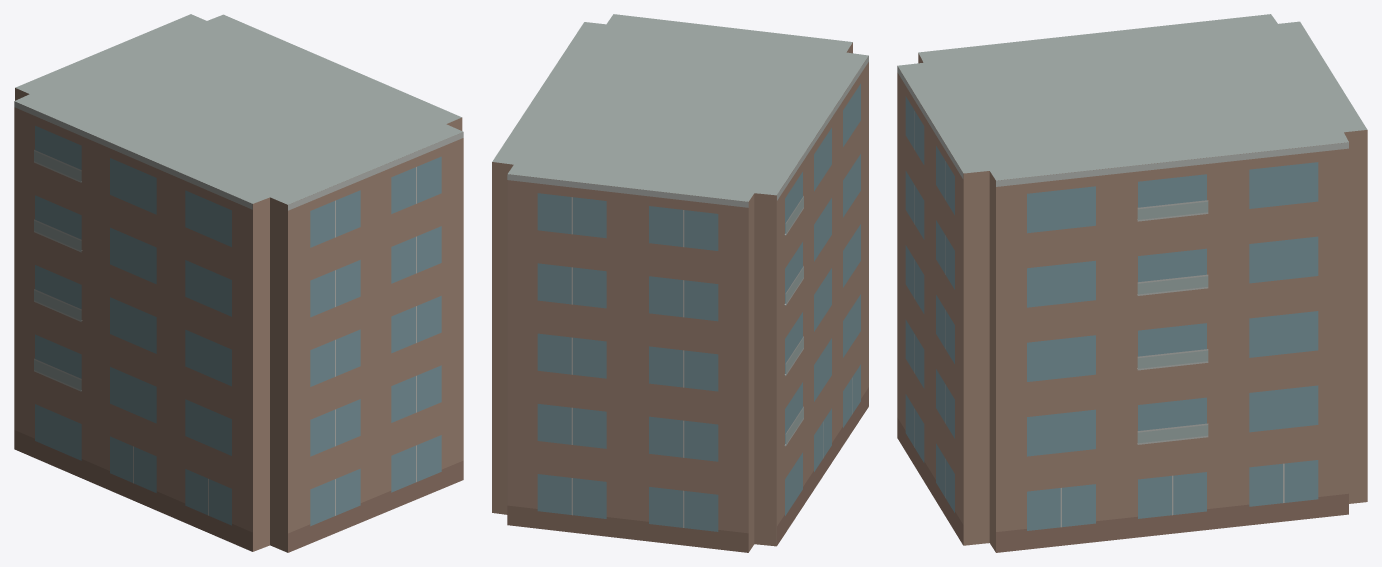
File: survey-upis-32721321.glb
The picture shows the model from 3 angles, left to right: view 1: azimuth 30°, elevation 25°; view 2: azimuth 150°, elevation 25°; view 3: azimuth 270°, elevation 25°; orthographic projection. The views are drawn at different scales.
Parts seen in each view (by area): view 1: survey-upis-32721321.tmp; view 2: survey-upis-32721321.tmp; view 3: survey-upis-32721321.tmp.
Part boxes in pixels (x1,y1,x2,y2): survey-upis-32721321.tmp: (14, 14, 463, 552); survey-upis-32721321.tmp: (492, 14, 868, 552); survey-upis-32721321.tmp: (897, 14, 1367, 552).
Bounding box in the file's own units: 13.74 × 14.3 × 16.38.
